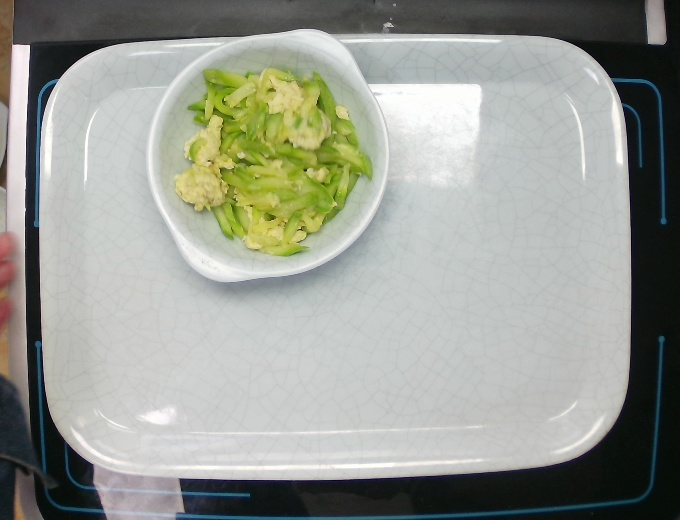JYsf-Shuang_Er_Wan: (138, 23, 395, 288)
